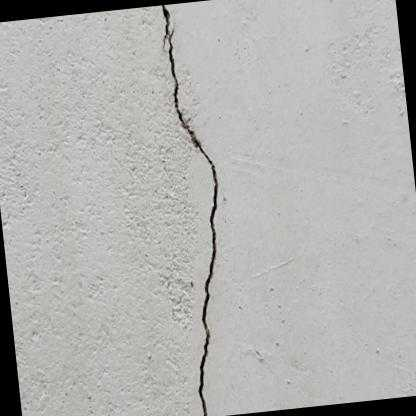crack: (167, 26, 218, 416), (158, 3, 169, 47)
